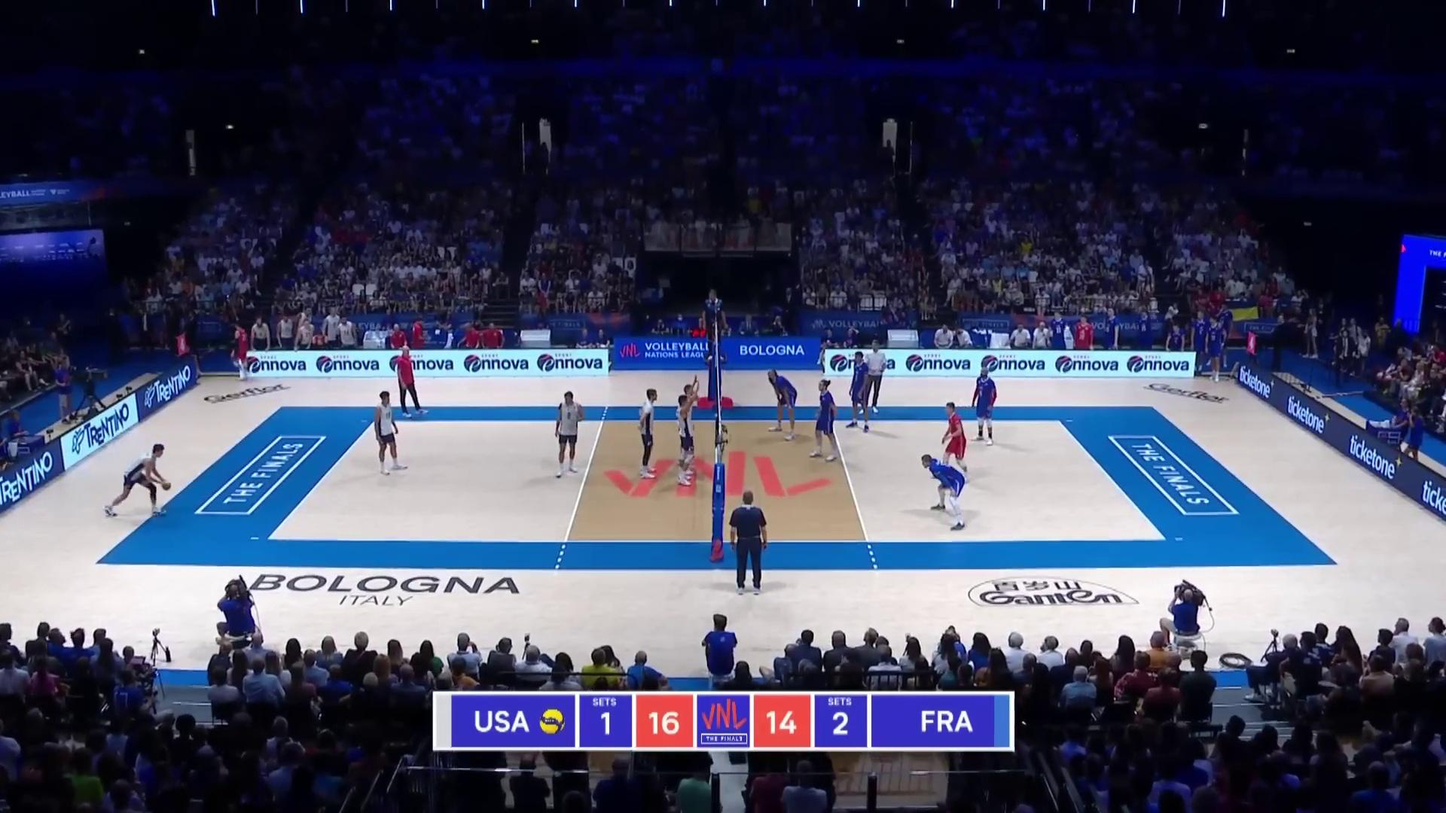player: (111, 442, 175, 514), (920, 454, 968, 532), (371, 391, 405, 474), (934, 404, 968, 484), (554, 391, 582, 478), (810, 380, 839, 461), (679, 388, 701, 488), (769, 370, 799, 442), (846, 352, 873, 432), (972, 362, 996, 444), (680, 379, 702, 467), (639, 391, 658, 478)
refree: (728, 493, 767, 594), (705, 289, 727, 360)
